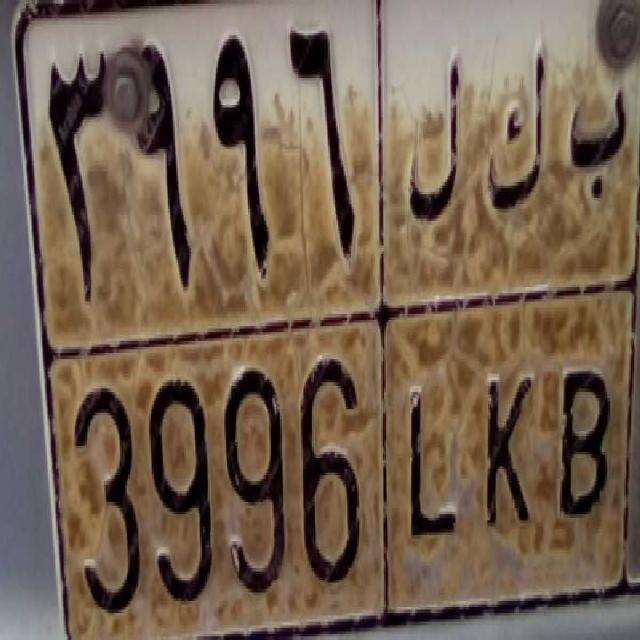license_plate: (60, 330, 632, 627)
